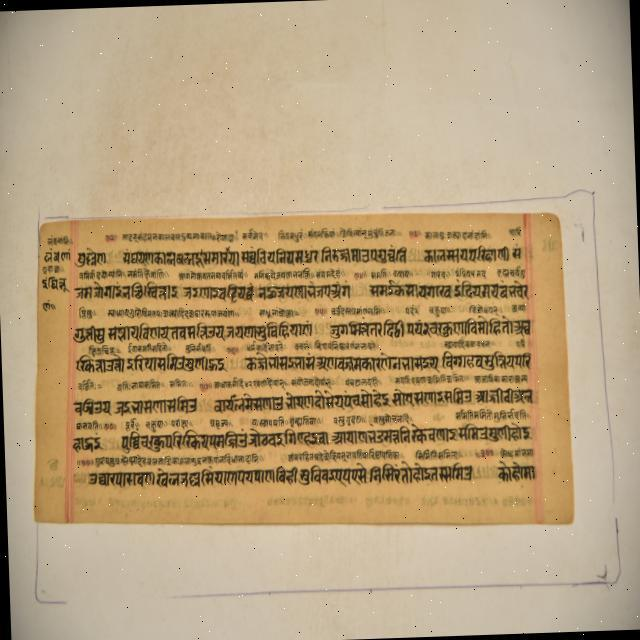text_paragraph: (30, 209, 571, 522)
